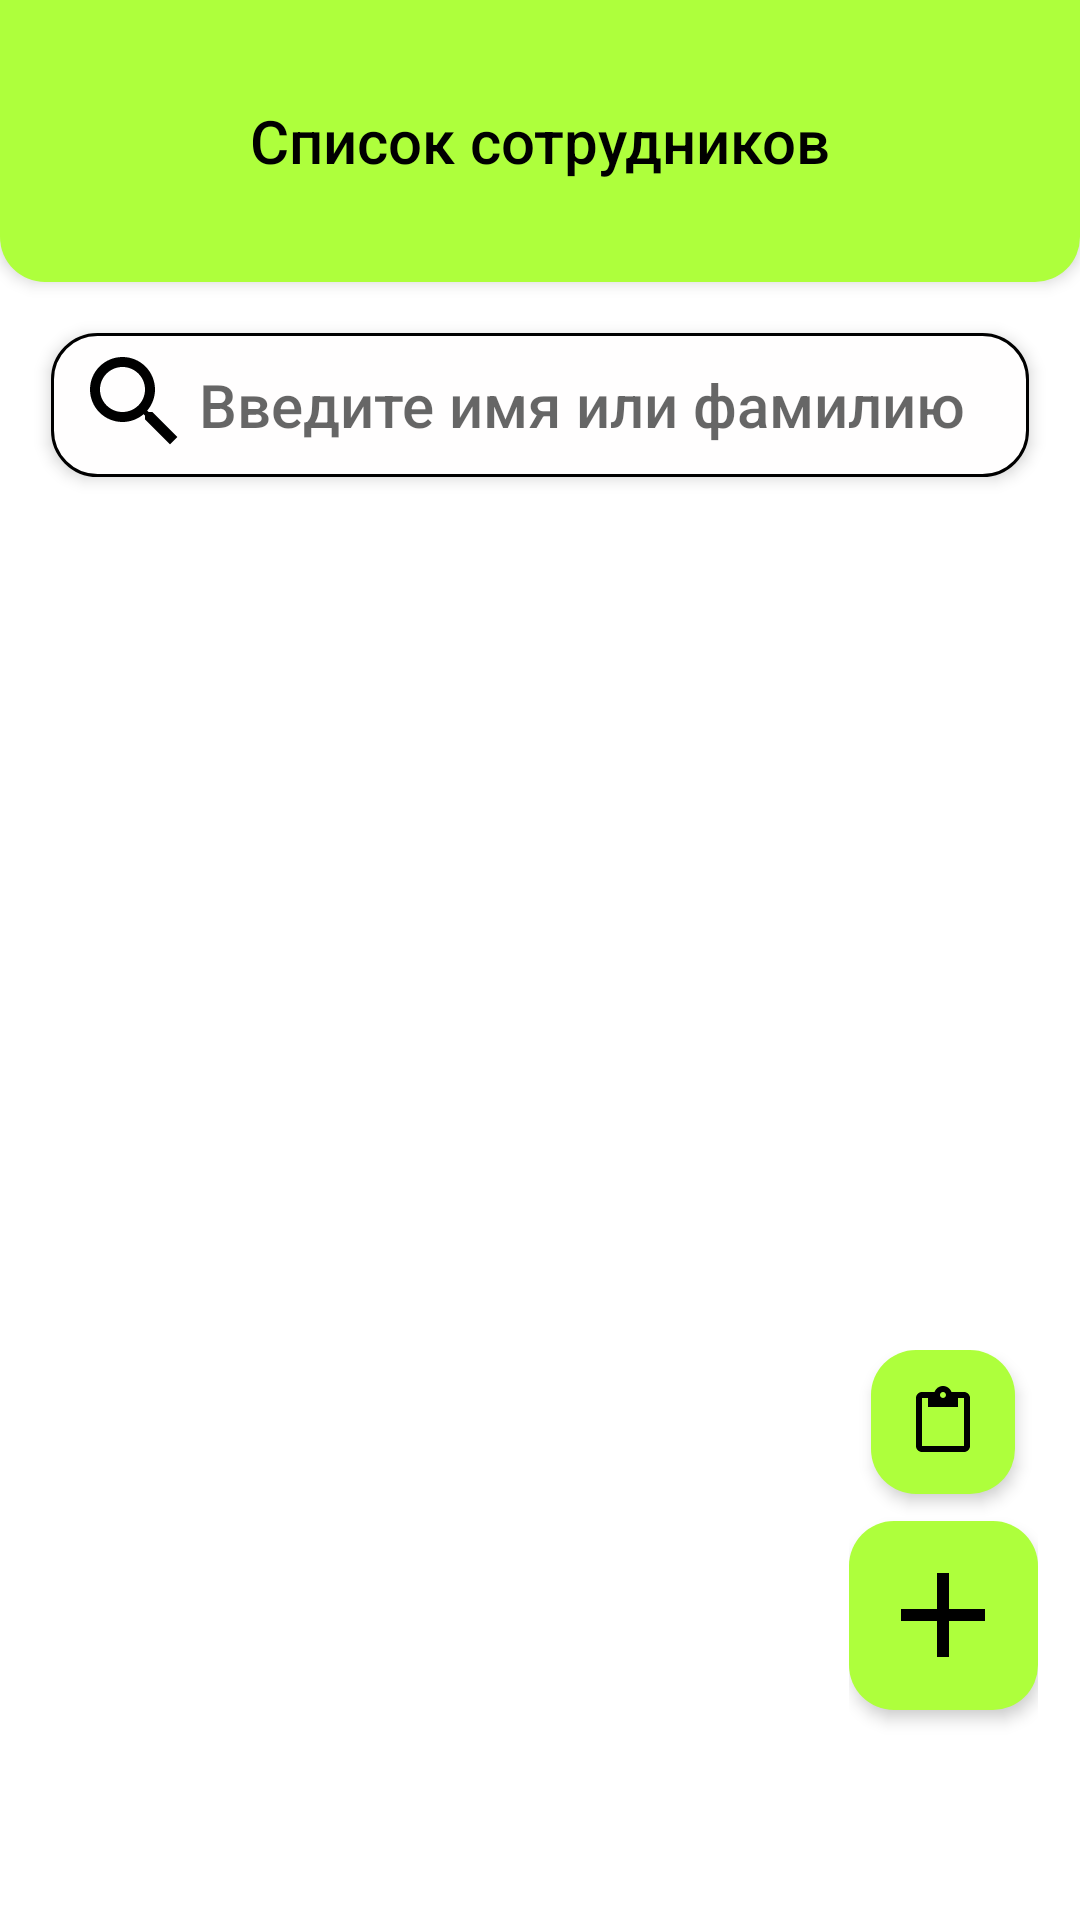

Icons on this 1080px x 1920px Android screen, each with its box as (x1,y1,x2,y2):
Добавление персонала: (901,1573,985,1657)
Документы: (916,1386,970,1452)
Поиск: (90,357,177,444)
